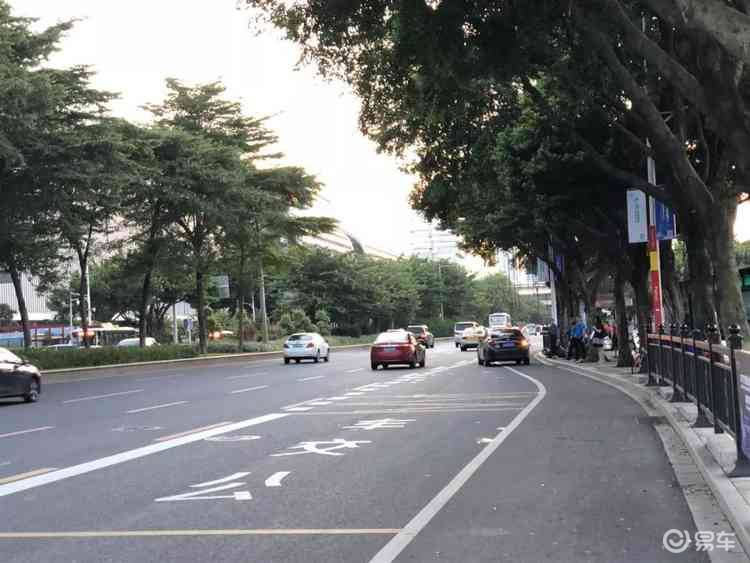slot_nocar: (1, 404, 540, 544)
